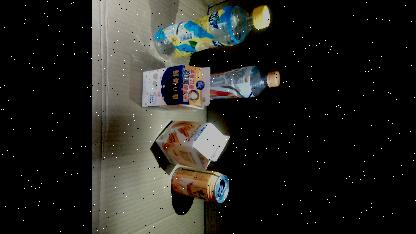Can: (170, 167, 228, 203)
Plastic Bottle: (153, 4, 269, 61), (178, 65, 280, 101)
